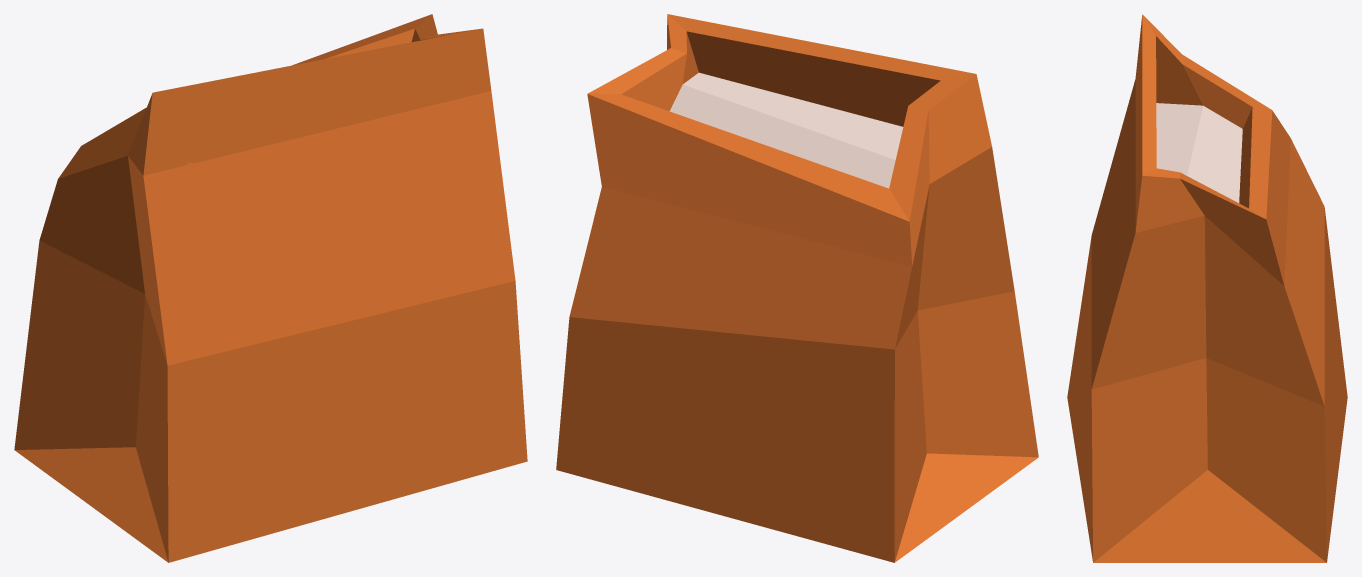
The model's file is Flour.fbx.
3 views of the same model, side by side, from view 1: azimuth 30°, elevation 25°; view 2: azimuth 150°, elevation 25°; view 3: azimuth 270°, elevation 25° (orthographic). The views are drawn at different scales.
Parts seen in each view (by area): view 1: Flour; view 2: Flour; view 3: Flour.
Part boxes in pixels (x1,y1,x2,y2): Flour: (14,14,527,562); Flour: (556,14,1038,562); Flour: (1067,14,1347,562).
Bounding box in the file's own units: 48.06 × 53.38 × 34.38.
